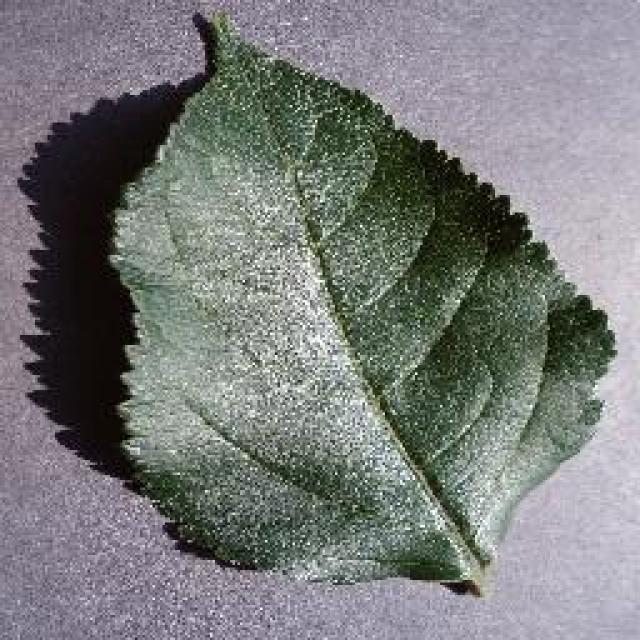apple healthy: (100, 5, 618, 597)
